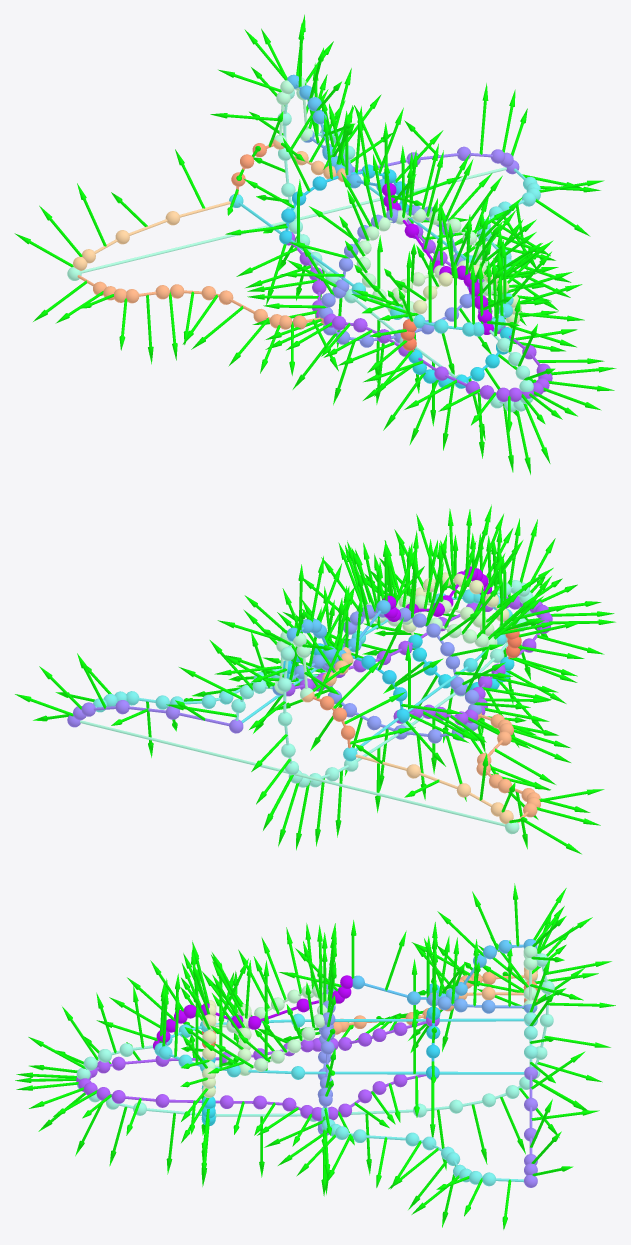
File: t2f_fighter.gltf
3 renders of one model, top to bottom at view 1: azimuth 30°, elevation 25°; view 2: azimuth 150°, elevation 25°; view 3: azimuth 270°, elevation 25°, orthographic. The views are drawn at different scales.
Size of the model in its own units: 0.8736 by 0.4672 by 0.8645.
